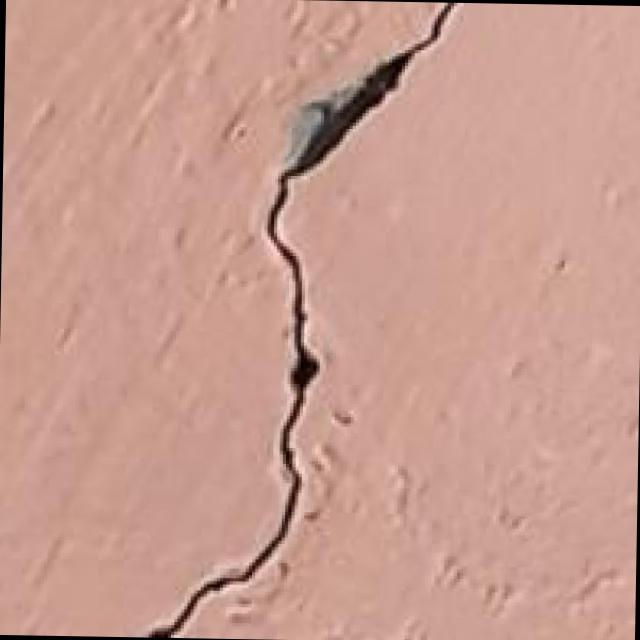crack: (125, 0, 482, 639)
